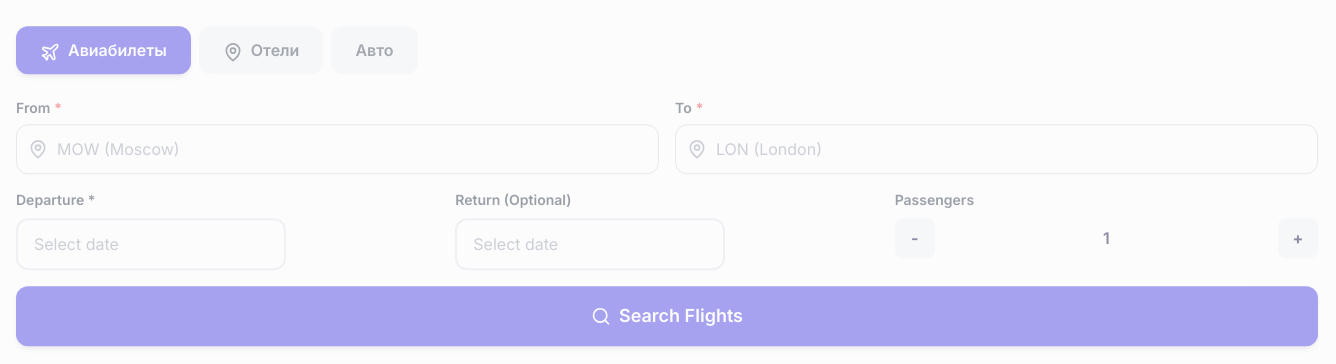
Test: SearchWidget Component › Flight Search Form › increments passengers when + clicked
Click the button "+".
click(1298, 238)  # box [1278, 218, 1318, 258]
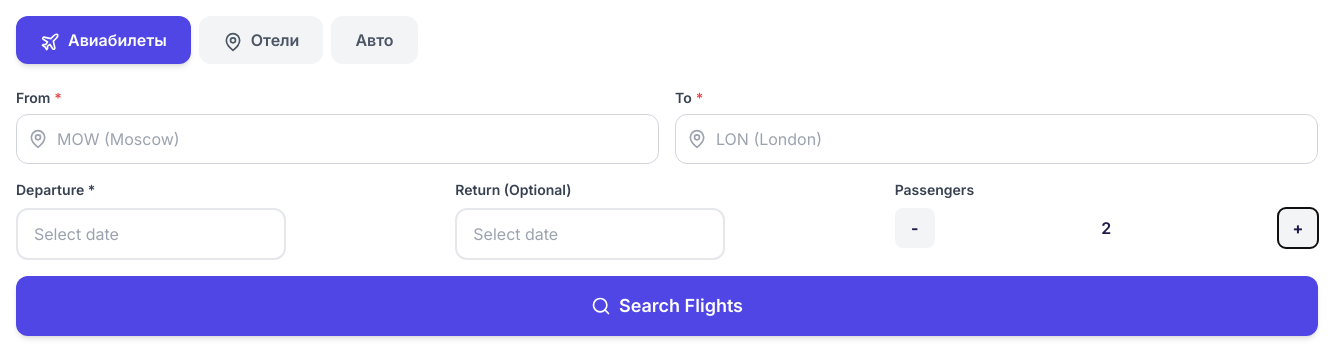
Check: the text "2" is shown, box [1101, 218, 1111, 238]
